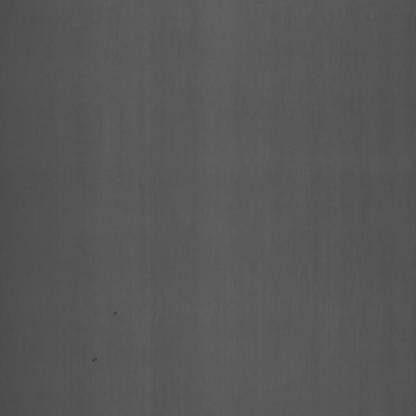inclusion: (107, 302, 122, 326), (89, 354, 101, 369)
